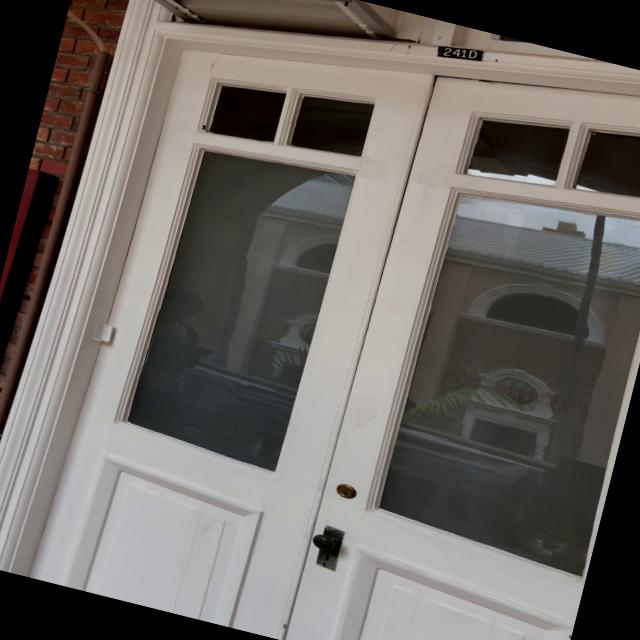room241d: (431, 36, 487, 70)
